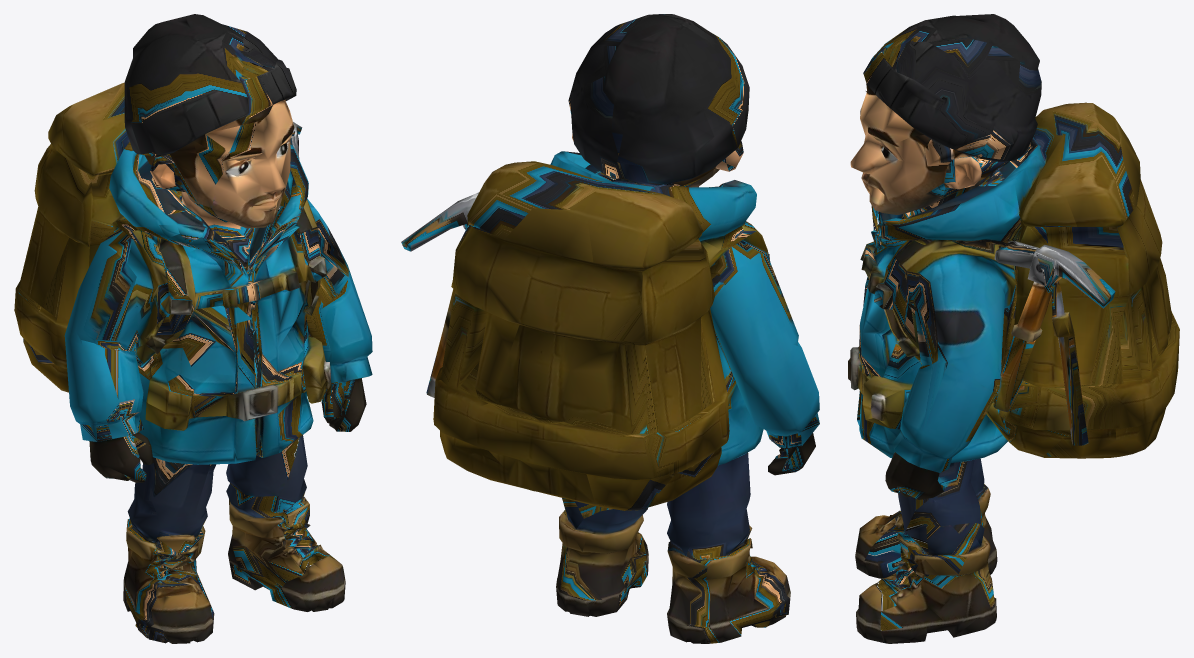
Rendered from mountain-guy.glb.
The picture shows the model from 3 angles, left to right: view 1: azimuth 30°, elevation 25°; view 2: azimuth 150°, elevation 25°; view 3: azimuth 270°, elevation 25°; orthographic projection. The views are drawn at different scales.
Visible parts, largest first — view 1: model; view 2: model; view 3: model.
Part boxes in pixels (x1,y1,x2,y2): model: [14, 14, 372, 643]; model: [401, 14, 819, 643]; model: [848, 14, 1179, 643].
Size of the model in its own units: 1.08 by 1.9 by 0.9946.
1 material, 1 textured.
